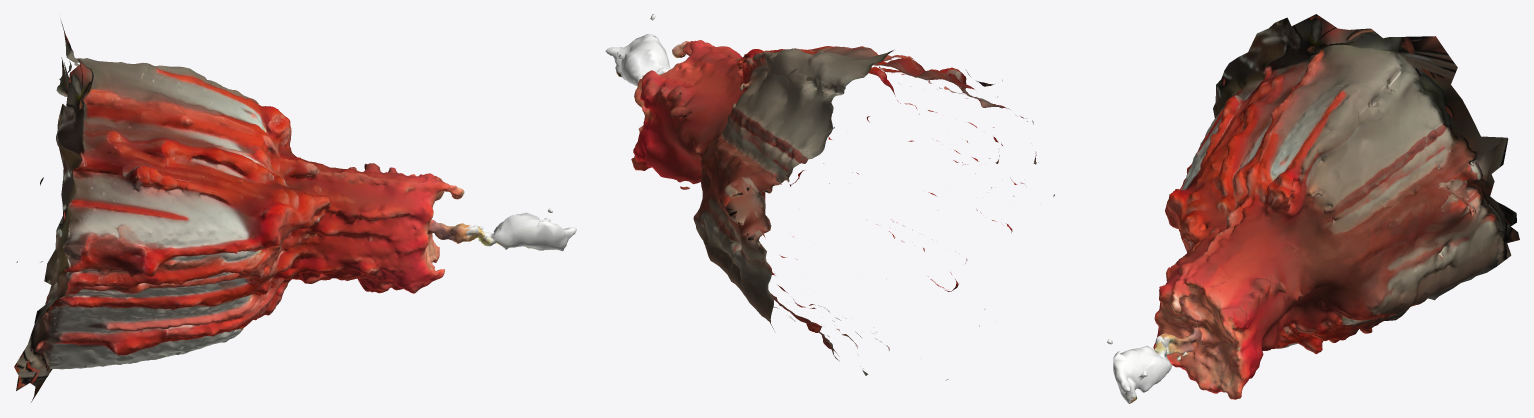
The model's file is 3DModel.gltf.
3 renders of one model, left to right at view 1: azimuth 30°, elevation 25°; view 2: azimuth 150°, elevation 25°; view 3: azimuth 270°, elevation 25°, orthographic. The views are drawn at different scales.
Parts seen in each view (by area): view 1: 3DModel; view 2: 3DModel; view 3: 3DModel.
Part boxes in pixels (box(x1,y1,x2,y2)): 3DModel: box(14, 21, 576, 402); 3DModel: box(605, 14, 1054, 380); 3DModel: box(1107, 14, 1519, 403).
Size of the model in its own units: 8.49 by 5.52 by 6.34.
1 material, 1 textured.
